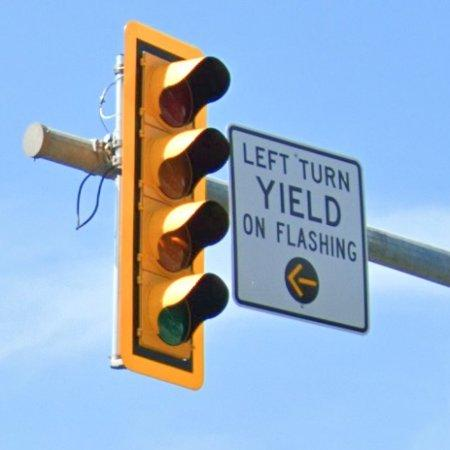traffic lights: (118, 21, 230, 391)
